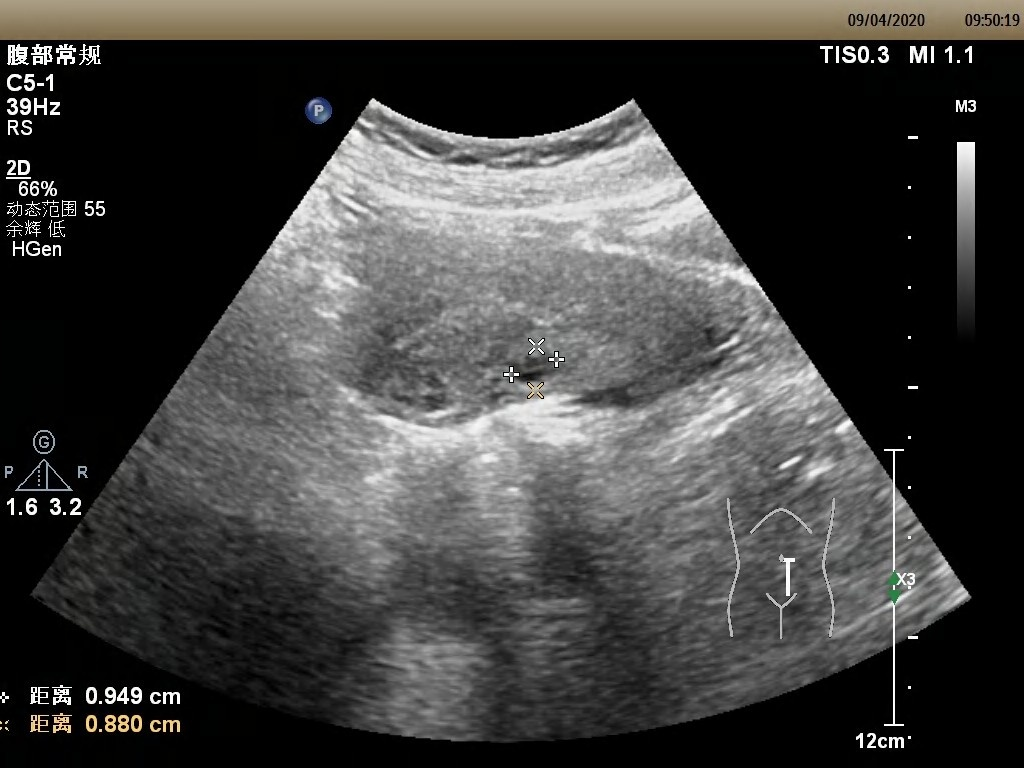肌瘤: (511, 347, 560, 391)
